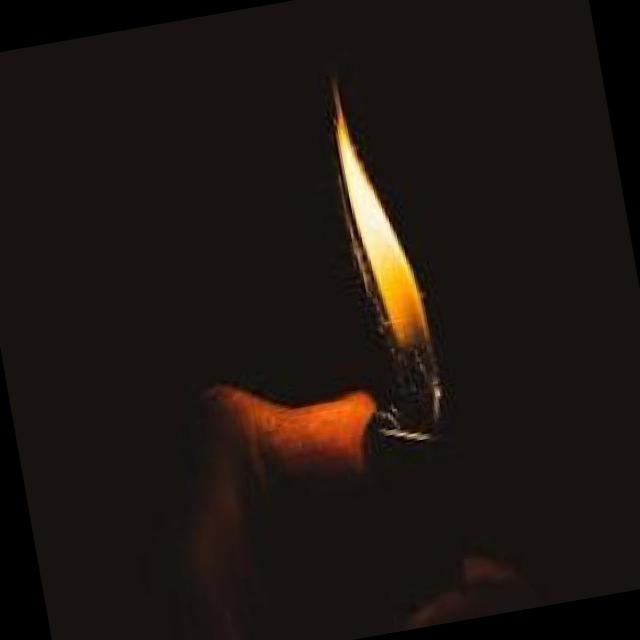Fire: (322, 79, 447, 442)
